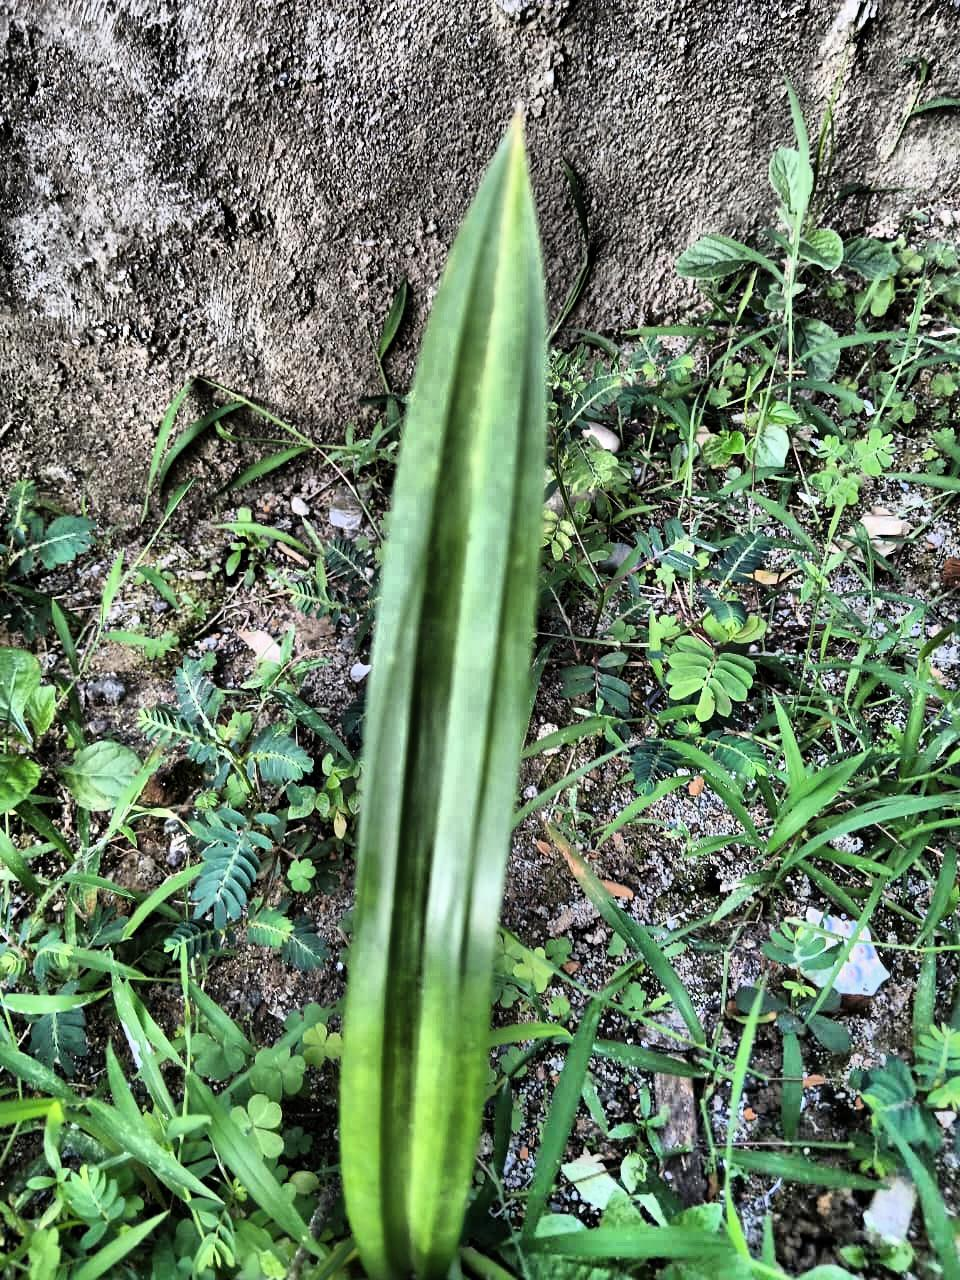daun pandan: (340, 117, 549, 1279)
